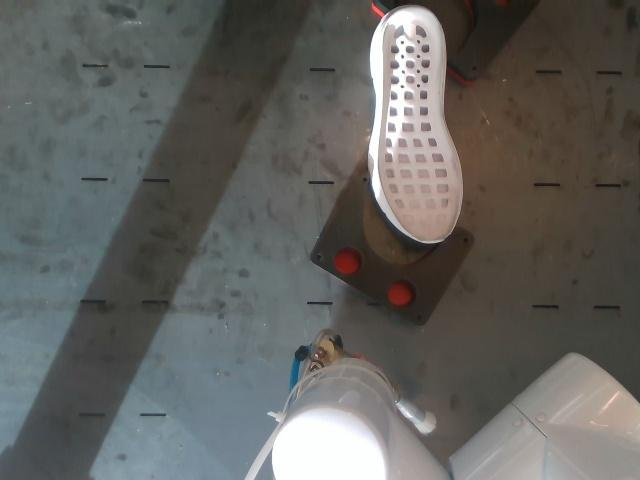shoes: (378, 7, 462, 243)
